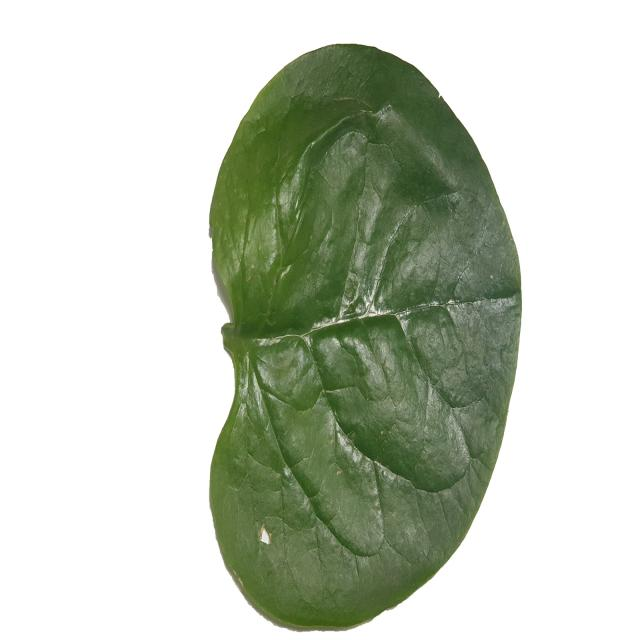Medicinal-Basale: (208, 40, 521, 632)
